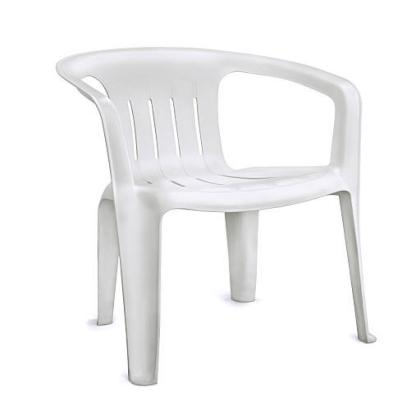chair: (53, 41, 389, 383)
